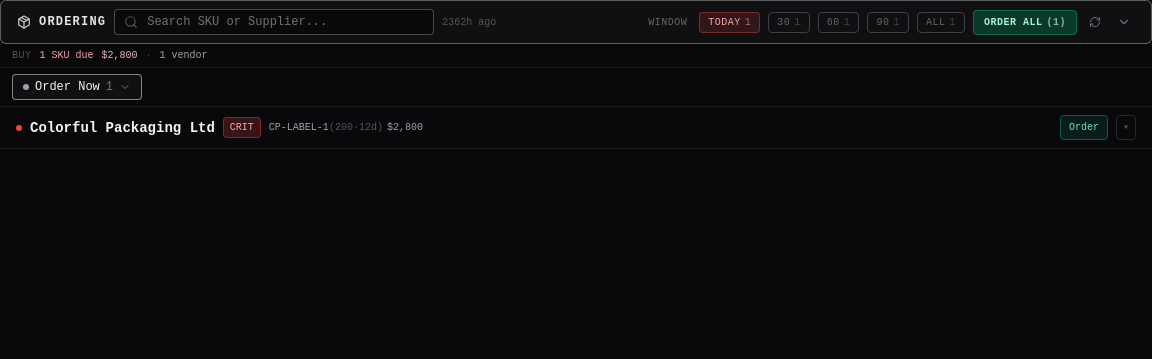
Scenario: PurchasingPanel - qty override dropdown › renders chevron when roundingAlternatives is non-empty
Click the button "▾".
click(1126, 128)  # box [1116,115,1136,140]
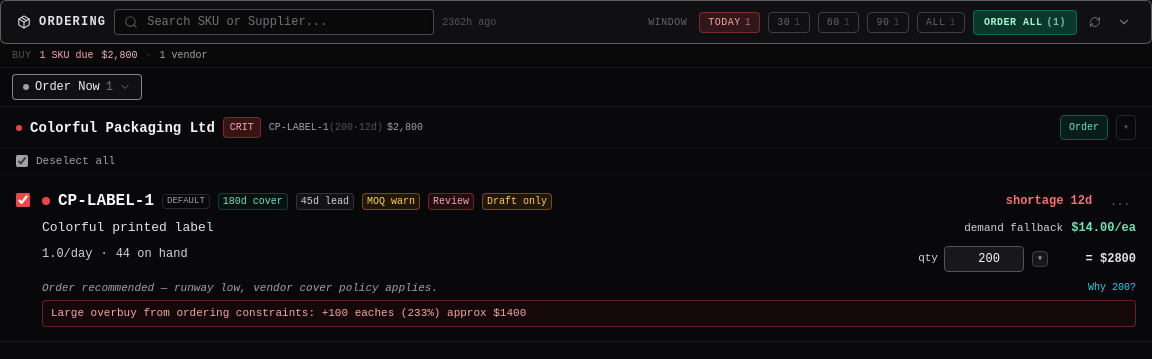
Result: the button titled "Snap to a different clean number" next to "qty" is shown at [1032,250,1048,266]
